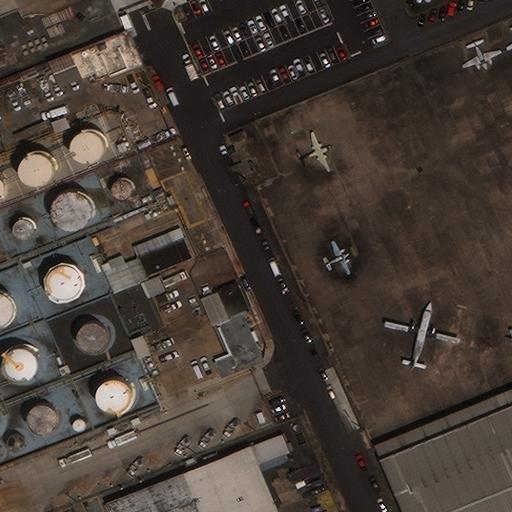Medium Civil Transport: (385, 302, 460, 370)
Small Civil Transport: (300, 132, 329, 171), (462, 41, 501, 69), (325, 239, 350, 274)
